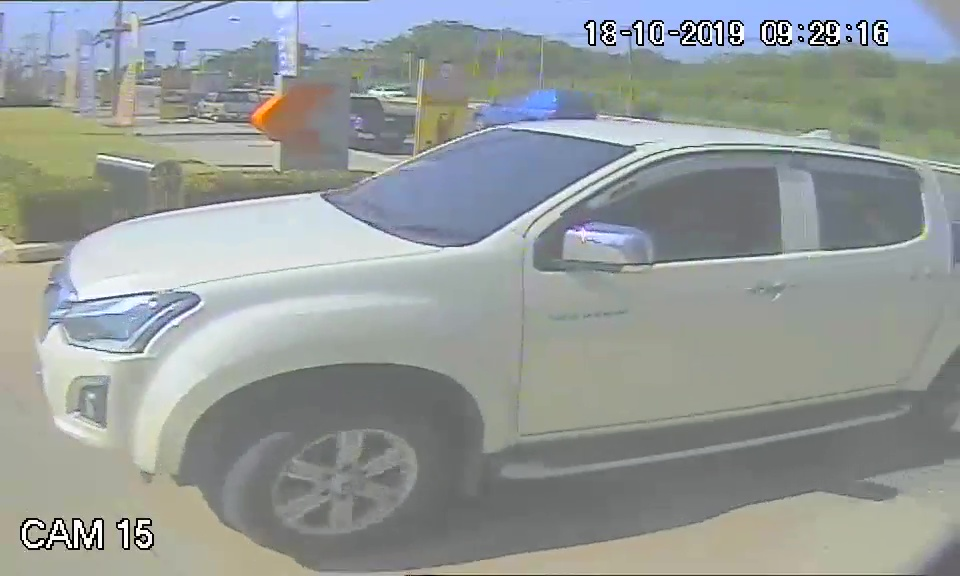pickup: (32, 114, 947, 485)
